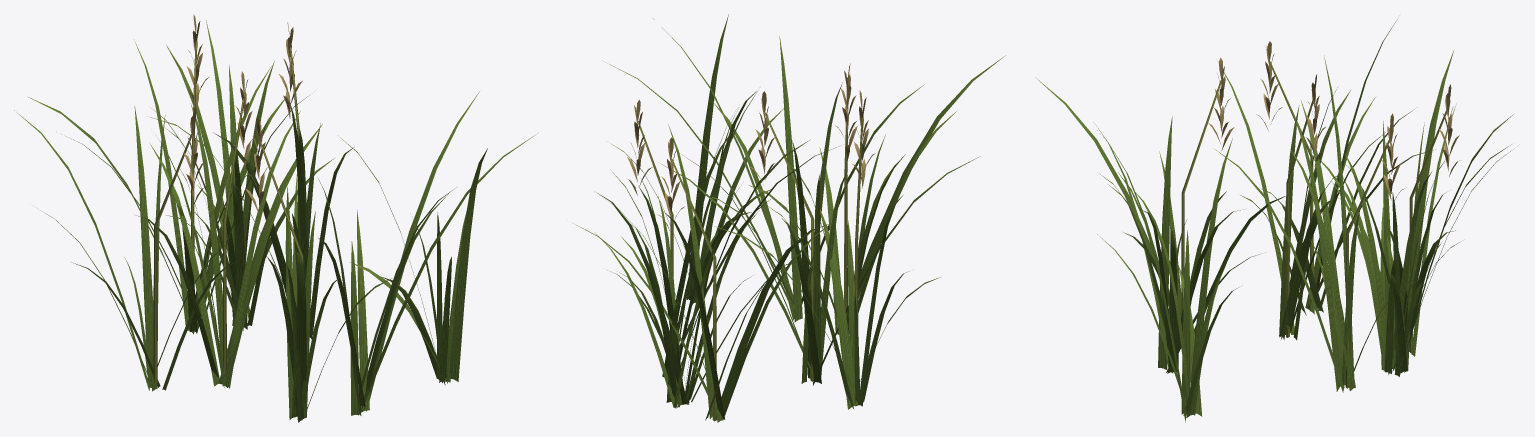
File: MeadowFescue_B.fbx
3 views of the same model, side by side, from view 1: azimuth 30°, elevation 25°; view 2: azimuth 150°, elevation 25°; view 3: azimuth 270°, elevation 25° (orthographic). The views are drawn at different scales.
Visible parts, largest first — view 1: MeadowFescue_B_LOD0; view 2: MeadowFescue_B_LOD0; view 3: MeadowFescue_B_LOD0.
Part boxes in pixels (<box>): MeadowFescue_B_LOD0: <box>14,14,537,422</box>; MeadowFescue_B_LOD0: <box>571,14,1005,422</box>; MeadowFescue_B_LOD0: <box>1035,19,1513,422</box>.
Size of what is drawn, in the model's own units: 42.07 by 30.74 by 48.01.
1 material, 1 textured.
